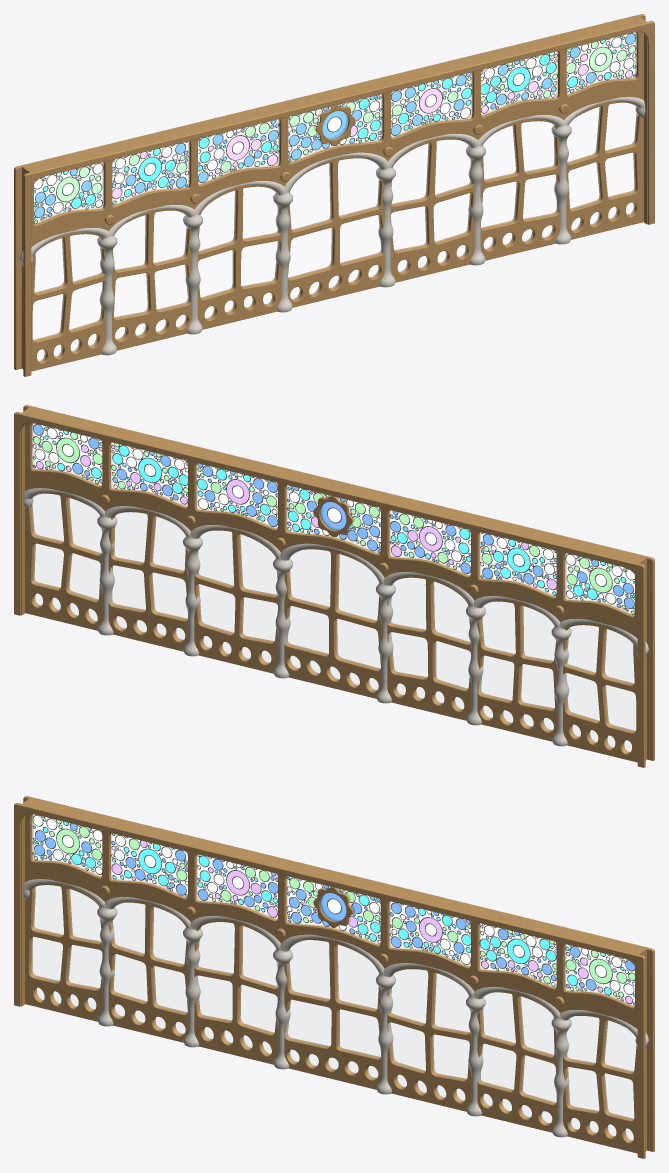
The model's file is batllo.glb.
The picture shows the model from 3 angles, top to bottom: view 1: azimuth 30°, elevation 25°; view 2: azimuth 150°, elevation 25°; view 3: azimuth 330°, elevation 25°; orthographic projection.
Parts seen in each view (by area): view 1: Batllo_Menuiserie.001, Batllo_Verre.001, Batllo_Pierre, Batllo_Plomb.001, Batllo_Vitrail_Fond.001, Batllo_Chambranle.001, Batllo_Doublure, Batllo_Cive_Bleu.001, Batllo_Cive_Turquoise.001, Batllo_Cive_Blanc.001, Batllo_Cive_Vert.001, Batllo_Chambranle.002 (+2 smaller); view 2: Batllo_Menuiserie.001, Batllo_Verre.001, Batllo_Pierre, Batllo_Plomb.001, Batllo_Vitrail_Fond.001, Batllo_Chambranle.002, Batllo_Doublure, Batllo_Cive_Bleu.001, Batllo_Cive_Turquoise.001, Batllo_Cive_Blanc.001, Batllo_Cive_Vert.001, Batllo_Chambranle.001 (+2 smaller); view 3: Batllo_Menuiserie.001, Batllo_Verre.001, Batllo_Pierre, Batllo_Plomb.001, Batllo_Vitrail_Fond.001, Batllo_Chambranle.001, Batllo_Doublure, Batllo_Cive_Bleu.001, Batllo_Cive_Turquoise.001, Batllo_Cive_Blanc.001, Batllo_Cive_Vert.001, Batllo_Chambranle.002 (+2 smaller).
Boxes of the visible parts, x1,y1,x2,y2 form: Batllo_Menuiserie.001: (31, 32, 643, 371); Batllo_Verre.001: (33, 103, 637, 361); Batllo_Pierre: (20, 97, 645, 355); Batllo_Plomb.001: (34, 33, 636, 223); Batllo_Vitrail_Fond.001: (34, 32, 636, 224); Batllo_Chambranle.001: (23, 21, 654, 376); Batllo_Doublure: (21, 15, 647, 369); Batllo_Cive_Bleu.001: (35, 33, 635, 219); Batllo_Cive_Turquoise.001: (34, 39, 635, 218); Batllo_Cive_Blanc.001: (34, 37, 635, 212); Batllo_Cive_Vert.001: (34, 35, 635, 223); Batllo_Chambranle.002: (14, 14, 645, 369); Batllo_Menuiserie.001: (25, 423, 637, 762); Batllo_Verre.001: (31, 494, 635, 752); Batllo_Pierre: (23, 488, 648, 746); Batllo_Plomb.001: (32, 424, 634, 614); Batllo_Vitrail_Fond.001: (32, 423, 634, 615); Batllo_Chambranle.002: (14, 412, 645, 767); Batllo_Doublure: (21, 406, 647, 760); Batllo_Cive_Bleu.001: (33, 425, 633, 610); Batllo_Cive_Turquoise.001: (33, 430, 634, 609); Batllo_Cive_Blanc.001: (33, 428, 634, 603); Batllo_Cive_Vert.001: (33, 426, 634, 614); Batllo_Chambranle.001: (23, 405, 654, 760); Batllo_Menuiserie.001: (25, 814, 637, 1153); Batllo_Verre.001: (31, 885, 636, 1141); Batllo_Pierre: (23, 879, 648, 1137); Batllo_Plomb.001: (32, 815, 634, 1005); Batllo_Vitrail_Fond.001: (32, 814, 634, 1006); Batllo_Chambranle.001: (14, 803, 645, 1158); Batllo_Doublure: (21, 797, 647, 1151); Batllo_Cive_Bleu.001: (35, 823, 634, 1004); Batllo_Cive_Turquoise.001: (33, 821, 634, 996); Batllo_Cive_Blanc.001: (33, 815, 634, 998); Batllo_Cive_Vert.001: (34, 816, 634, 996); Batllo_Chambranle.002: (23, 796, 654, 1151).
Bounding box in the file's own units: 14.7 × 4.5 × 0.4599.
